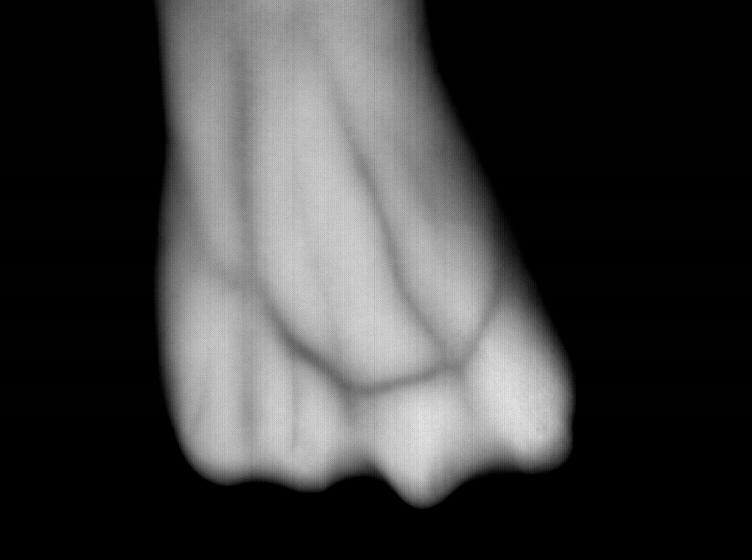Vein: (229, 49, 451, 397)
